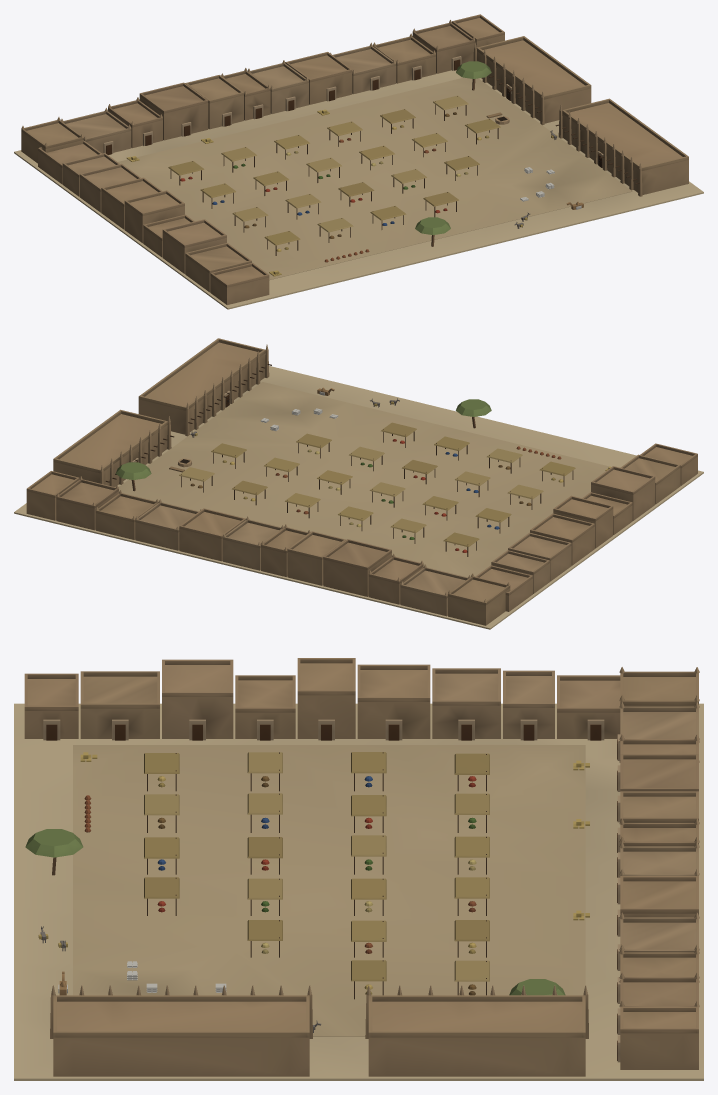
Rendered from great-market.glb.
3 renders of one model, top to bottom at view 1: azimuth 30°, elevation 25°; view 2: azimuth 150°, elevation 25°; view 3: azimuth 270°, elevation 25°, orthographic. The views are drawn at different scales.
Visible parts, largest first — view 1: p0_ground, p1_shops, p2_stalls, p3_goods; view 2: p0_ground, p1_shops, p2_stalls, p3_goods; view 3: p0_ground, p1_shops, p2_stalls, p3_goods.
Part boxes in pixels (left/top/right/bottom): p0_ground: left=14, top=70, right=703, bottom=309; p1_shops: left=21, top=14, right=688, bottom=304; p2_stalls: left=168, top=95, right=500, bottom=255; p3_goods: left=126, top=61, right=583, bottom=276; p0_ground: left=14, top=366, right=703, bottom=629; p1_shops: left=26, top=338, right=697, bottom=625; p2_stalls: left=179, top=422, right=575, bottom=556; p3_goods: left=115, top=387, right=611, bottom=491; p0_ground: left=14, top=703, right=703, bottom=1080; p1_shops: left=24, top=658, right=699, bottom=1076; p2_stalls: left=144, top=752, right=489, bottom=999; p3_goods: left=25, top=752, right=589, bottom=1032.
Size of the model in its own units: 90 by 6.15 by 70.
